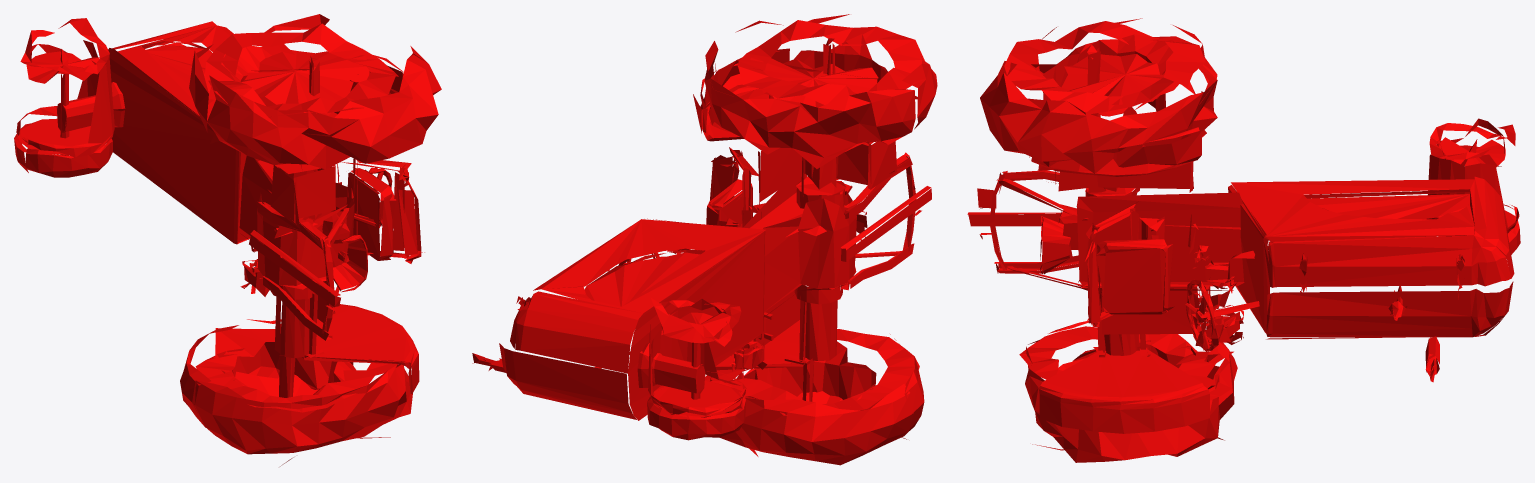
3 renders of one model, left to right at view 1: azimuth 30°, elevation 25°; view 2: azimuth 150°, elevation 25°; view 3: azimuth 270°, elevation 25°, orthographic.
Parts seen in each view (by area): view 1: Renderer Node; view 2: Renderer Node; view 3: Renderer Node.
Boxes of the visible parts, box(x1,y1,x2,y2) form: Renderer Node: box(14, 14, 441, 466); Renderer Node: box(472, 14, 937, 465); Renderer Node: box(967, 18, 1520, 462).
Size of the model in its own units: 0.9296 by 1.18 by 1.55.
Materials: 1 (1 with a texture image).
